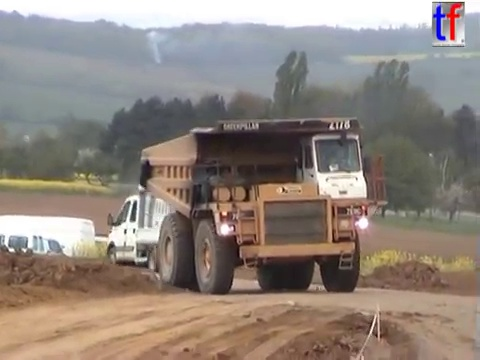truck: (136, 114, 389, 295), (103, 182, 230, 274)
